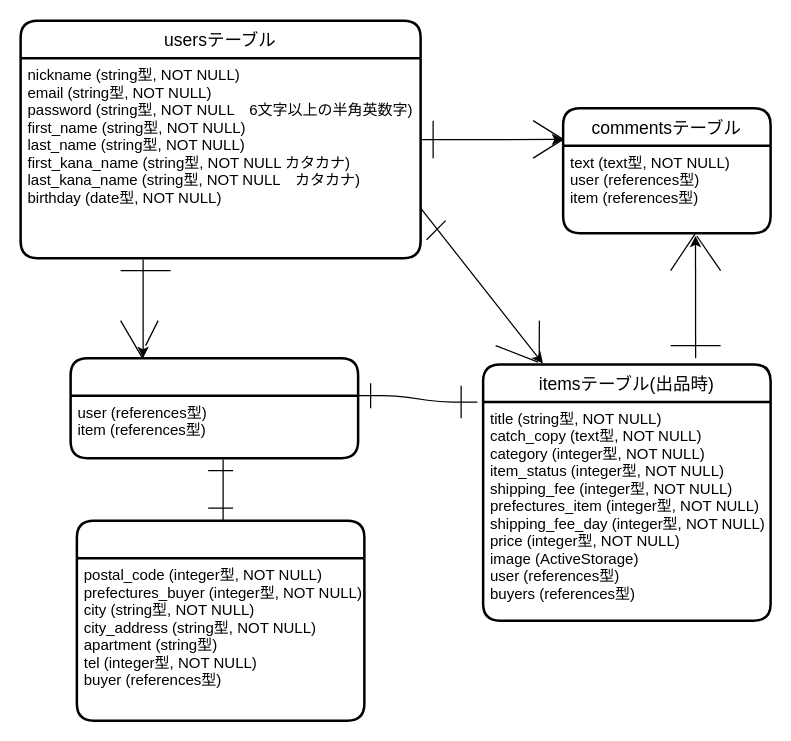
This 791x741 diagram has some shape labels left out. Here are the shapes that lost their labels. From the top down, the box of each, then its label:
(69, 356, 359, 459): buyersテーブル(購入時)
(75, 519, 365, 721): input_formatsテーブル
